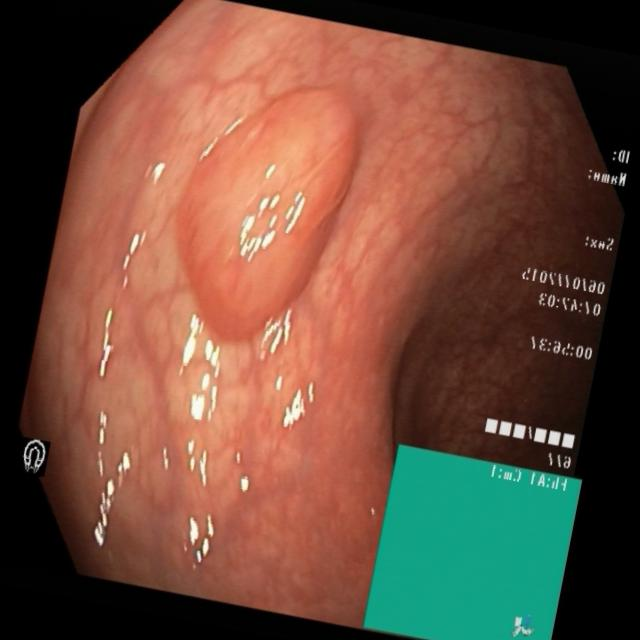Polyps: (174, 80, 370, 344)
